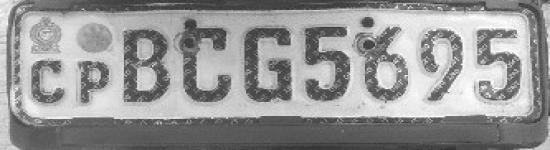5: (305, 28, 349, 98), (478, 30, 522, 98)
6: (365, 26, 410, 100)
9: (422, 29, 464, 99)
B: (123, 29, 169, 100)
C: (183, 28, 229, 101), (33, 60, 63, 102)
G: (245, 28, 293, 100)
P: (80, 61, 109, 103)
